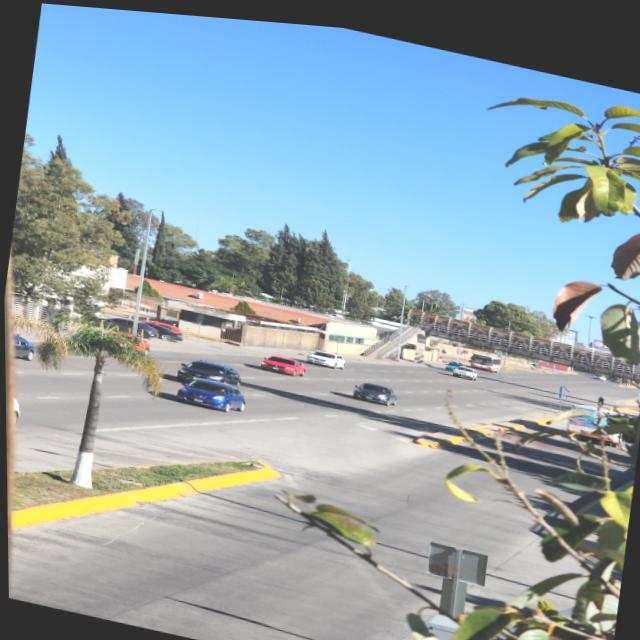Auto: (175, 369, 247, 414), (257, 346, 308, 374), (353, 373, 398, 402), (304, 343, 348, 368), (143, 316, 184, 341), (11, 333, 37, 361), (446, 355, 477, 373)
Autobus: (469, 346, 500, 366)
